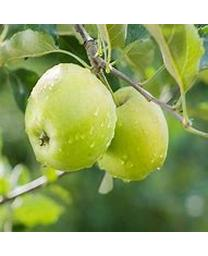apple: (24, 63, 116, 172), (96, 86, 169, 182)
